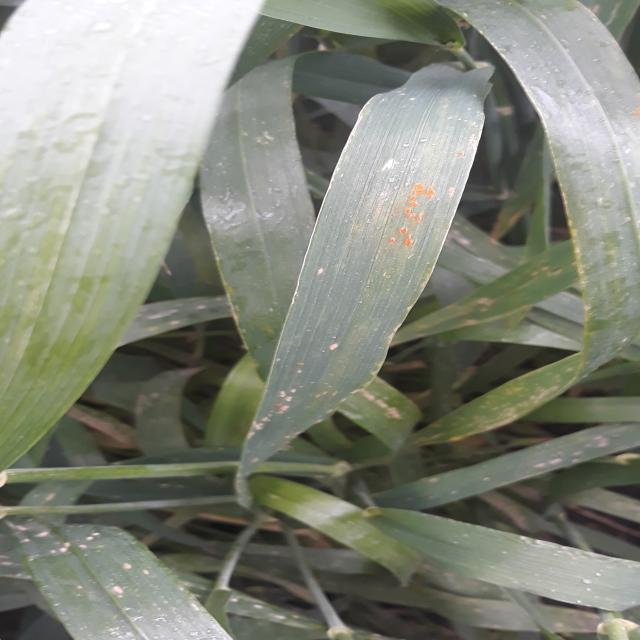orang_rust: (348, 120, 500, 260), (270, 401, 298, 413), (294, 355, 308, 370)
powder_mildew: (6, 496, 230, 640), (537, 160, 640, 473), (418, 280, 592, 444), (314, 291, 426, 420), (214, 586, 422, 640), (404, 448, 557, 502), (101, 362, 210, 434), (133, 298, 248, 346), (231, 414, 319, 456)
